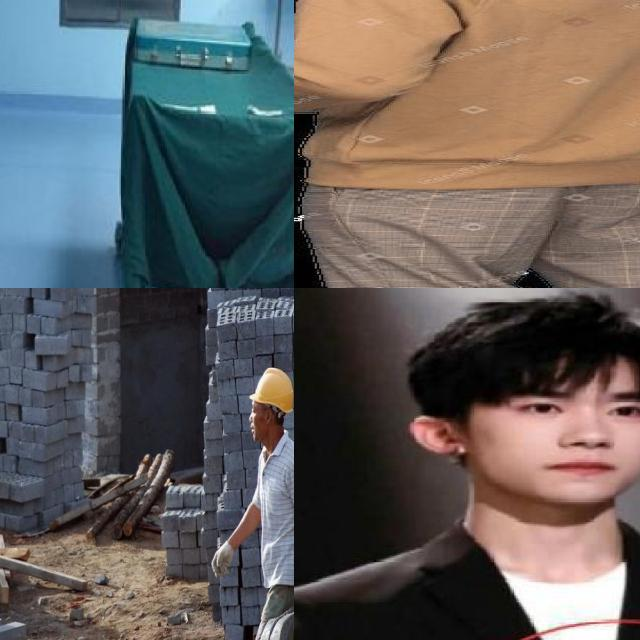No_Ear-Protection: (402, 404, 474, 463), (265, 408, 272, 426)
No_Glasses: (501, 380, 640, 436)
face_nomask: (503, 385, 640, 501), (249, 414, 265, 441)
hand_glove: (212, 540, 235, 578)
head_helmet: (249, 368, 294, 413)
head_nohelmet: (412, 288, 640, 396)
person: (294, 288, 640, 640), (294, 0, 640, 288)
